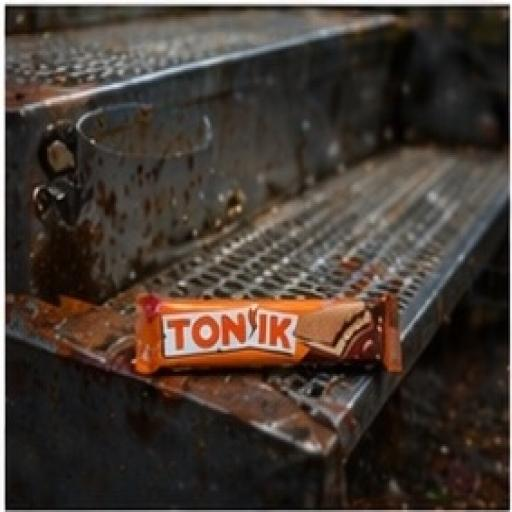tonik: (84, 193, 442, 446)
